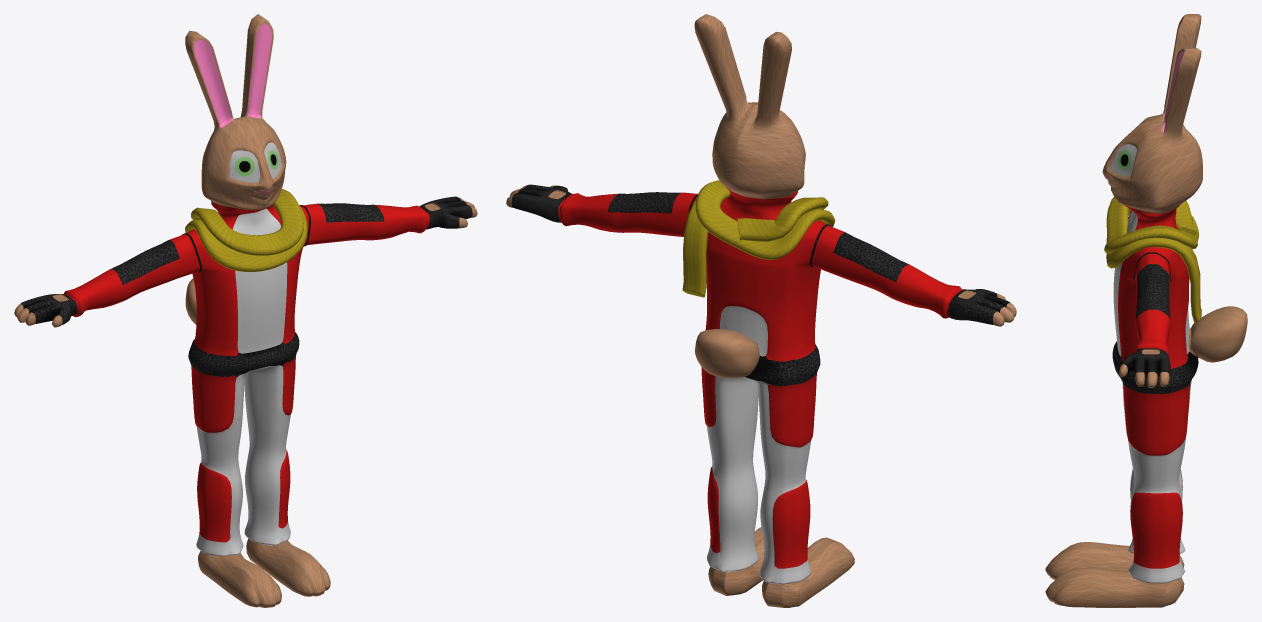
3 renders of one model, left to right at view 1: azimuth 30°, elevation 25°; view 2: azimuth 150°, elevation 25°; view 3: azimuth 270°, elevation 25°, orthographic. The views are drawn at different scales.
Visible parts, largest first — view 1: body, head, left leg, right leg, Collar, left arm, right arm, right foot, left foot, left hand, right hand; view 2: body, head, left leg, right leg, Collar, left arm, right arm, left foot, tail, left hand, right hand, right foot; view 3: right leg, head, body, right foot, Collar, right arm, tail, left foot, right hand, left leg.
Part boxes in pixels (x1=…): body: x1=181, y1=201, x2=310, y2=377; head: x1=185, y1=14, x2=286, y2=210; left leg: x1=191, y1=365, x2=248, y2=556; right leg: x1=244, y1=355, x2=295, y2=545; Collar: x1=185, y1=189, x2=307, y2=271; left arm: x1=64, y1=234, x2=199, y2=317; right arm: x1=303, y1=203, x2=429, y2=245; right foot: x1=246, y1=538, x2=330, y2=596; left foot: x1=198, y1=551, x2=281, y2=607; left hand: x1=14, y1=294, x2=77, y2=327; right hand: x1=419, y1=196, x2=477, y2=229; body: x1=689, y1=187, x2=831, y2=386; head: x1=694, y1=14, x2=805, y2=199; left leg: x1=743, y1=373, x2=816, y2=584; right leg: x1=701, y1=367, x2=758, y2=572; Collar: x1=682, y1=180, x2=835, y2=297; left arm: x1=812, y1=225, x2=962, y2=318; right arm: x1=558, y1=192, x2=697, y2=236; left foot: x1=762, y1=537, x2=854, y2=607; tail: x1=695, y1=329, x2=759, y2=378; left hand: x1=948, y1=289, x2=1016, y2=326; right hand: x1=506, y1=184, x2=572, y2=222; right foot: x1=708, y1=527, x2=764, y2=595; right leg: x1=1122, y1=380, x2=1191, y2=583; head: x1=1102, y1=14, x2=1202, y2=213; body: x1=1112, y1=205, x2=1198, y2=393; right foot: x1=1045, y1=568, x2=1184, y2=607; Collar: x1=1104, y1=197, x2=1201, y2=322; right arm: x1=1134, y1=253, x2=1170, y2=356; tail: x1=1188, y1=306, x2=1247, y2=362; left foot: x1=1045, y1=542, x2=1184, y2=579; right hand: x1=1119, y1=348, x2=1170, y2=387; left leg: x1=1128, y1=469, x2=1185, y2=553.
Size of the model in its own units: 0.9036 by 1 by 0.3297.
Materials: 24 (22 with a texture image).
